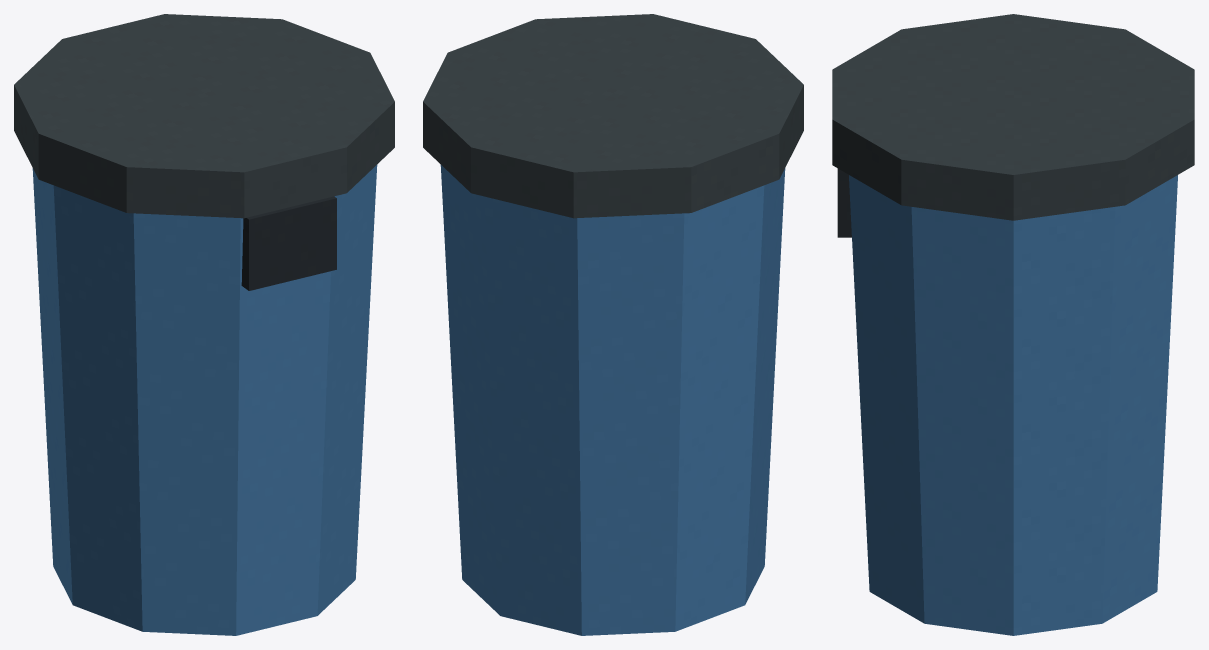
File: trash-can.glb
3 views of the same model, side by side, from view 1: azimuth 30°, elevation 25°; view 2: azimuth 150°, elevation 25°; view 3: azimuth 270°, elevation 25° (orthographic).
Parts seen in each view (by area): view 1: Bin body 001, Bin lid 002, Waste opening 003; view 2: Bin body 001, Bin lid 002; view 3: Bin body 001, Bin lid 002, Waste opening 003.
Boxes of the visible parts, left/top/right/bottom form: Bin body 001: left=32, top=165, right=377, bottom=635; Bin lid 002: left=14, top=14, right=394, bottom=218; Waste opening 003: left=241, top=196, right=336, bottom=290; Bin body 001: left=440, top=165, right=785, bottom=635; Bin lid 002: left=423, top=14, right=803, bottom=218; Bin body 001: left=849, top=175, right=1177, bottom=635; Bin lid 002: left=832, top=14, right=1194, bottom=220; Waste opening 003: left=837, top=168, right=851, bottom=237.
Bounding box in the file's own units: 0.68 × 0.94 × 0.6467.
3 materials, 3 textured.
